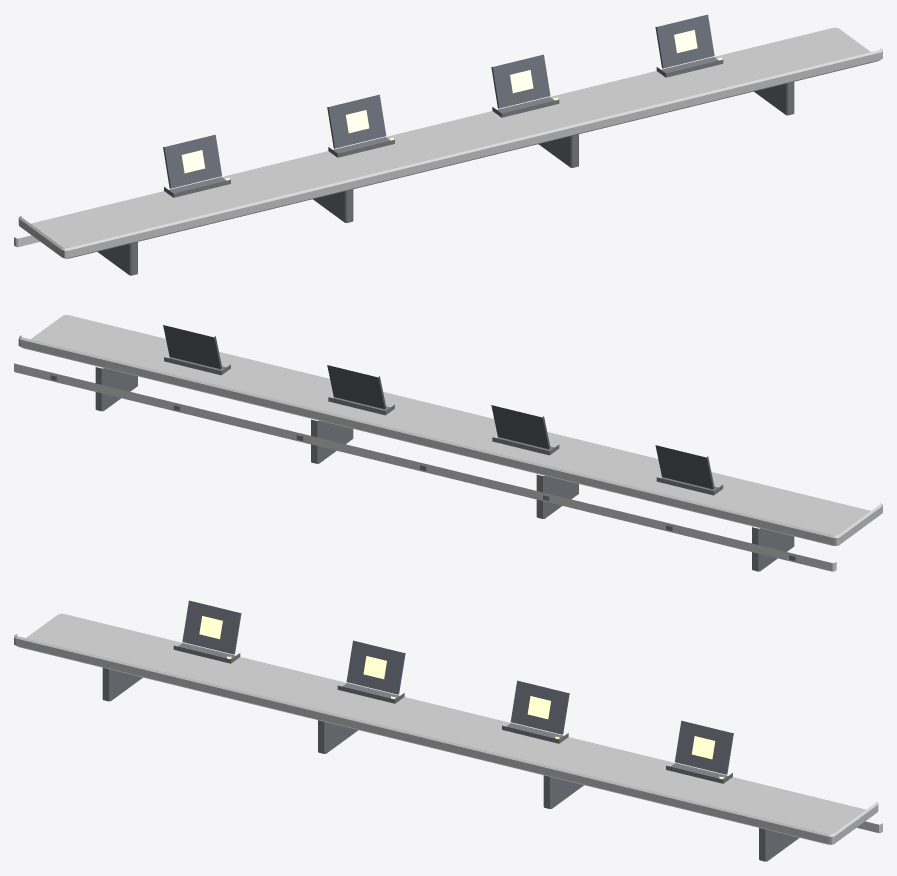
The model's file is iter_01.glb.
3 renders of one model, top to bottom at view 1: azimuth 30°, elevation 25°; view 2: azimuth 150°, elevation 25°; view 3: azimuth 330°, elevation 25°, orthographic.
Visible parts, largest first — view 1: Desk_Slab, Data_Slates, Brackets, Slate_Cradles, Slate_Glyphs; view 2: Desk_Slab, Wall_Rail, Data_Slates, Brackets, Slate_Cradles; view 3: Desk_Slab, Data_Slates, Brackets, Slate_Cradles, Slate_Glyphs.
Part boxes in pixels (left/top/right/bottom): Desk_Slab: left=18, top=27, right=882, bottom=258; Data_Slates: left=163, top=14, right=714, bottom=188; Brackets: left=97, top=82, right=794, bottom=275; Slate_Cradles: left=164, top=57, right=723, bottom=197; Slate_Glyphs: left=181, top=30, right=697, bottom=173; Desk_Slab: left=18, top=315, right=882, bottom=545; Wall_Rail: left=14, top=363, right=836, bottom=571; Data_Slates: left=163, top=325, right=714, bottom=489; Brackets: left=95, top=367, right=794, bottom=571; Slate_Cradles: left=164, top=357, right=723, bottom=495; Desk_Slab: left=14, top=613, right=878, bottom=844; Data_Slates: left=182, top=600, right=733, bottom=774; Brackets: left=102, top=668, right=799, bottom=861; Slate_Cradles: left=173, top=643, right=732, bottom=783; Slate_Glyphs: left=199, top=616, right=715, bottom=759.
Bounding box in the file's own units: 4 × 0.4412 × 0.436.
